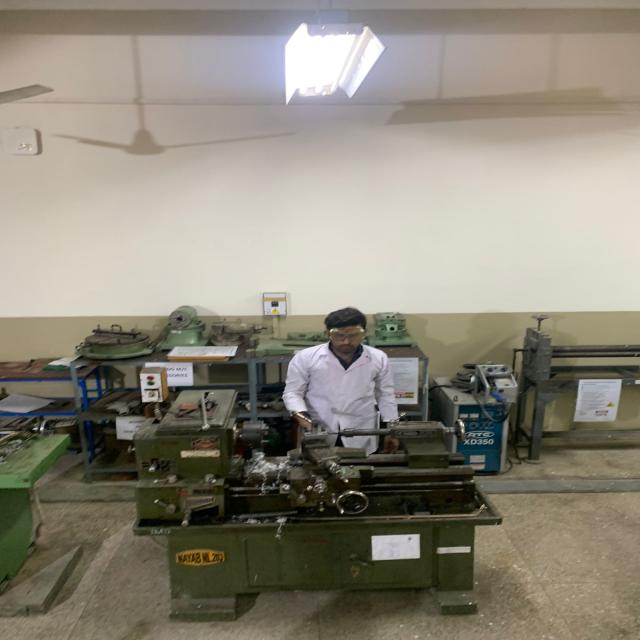googles: (321, 323, 369, 344)
labcoat: (282, 339, 401, 458)
